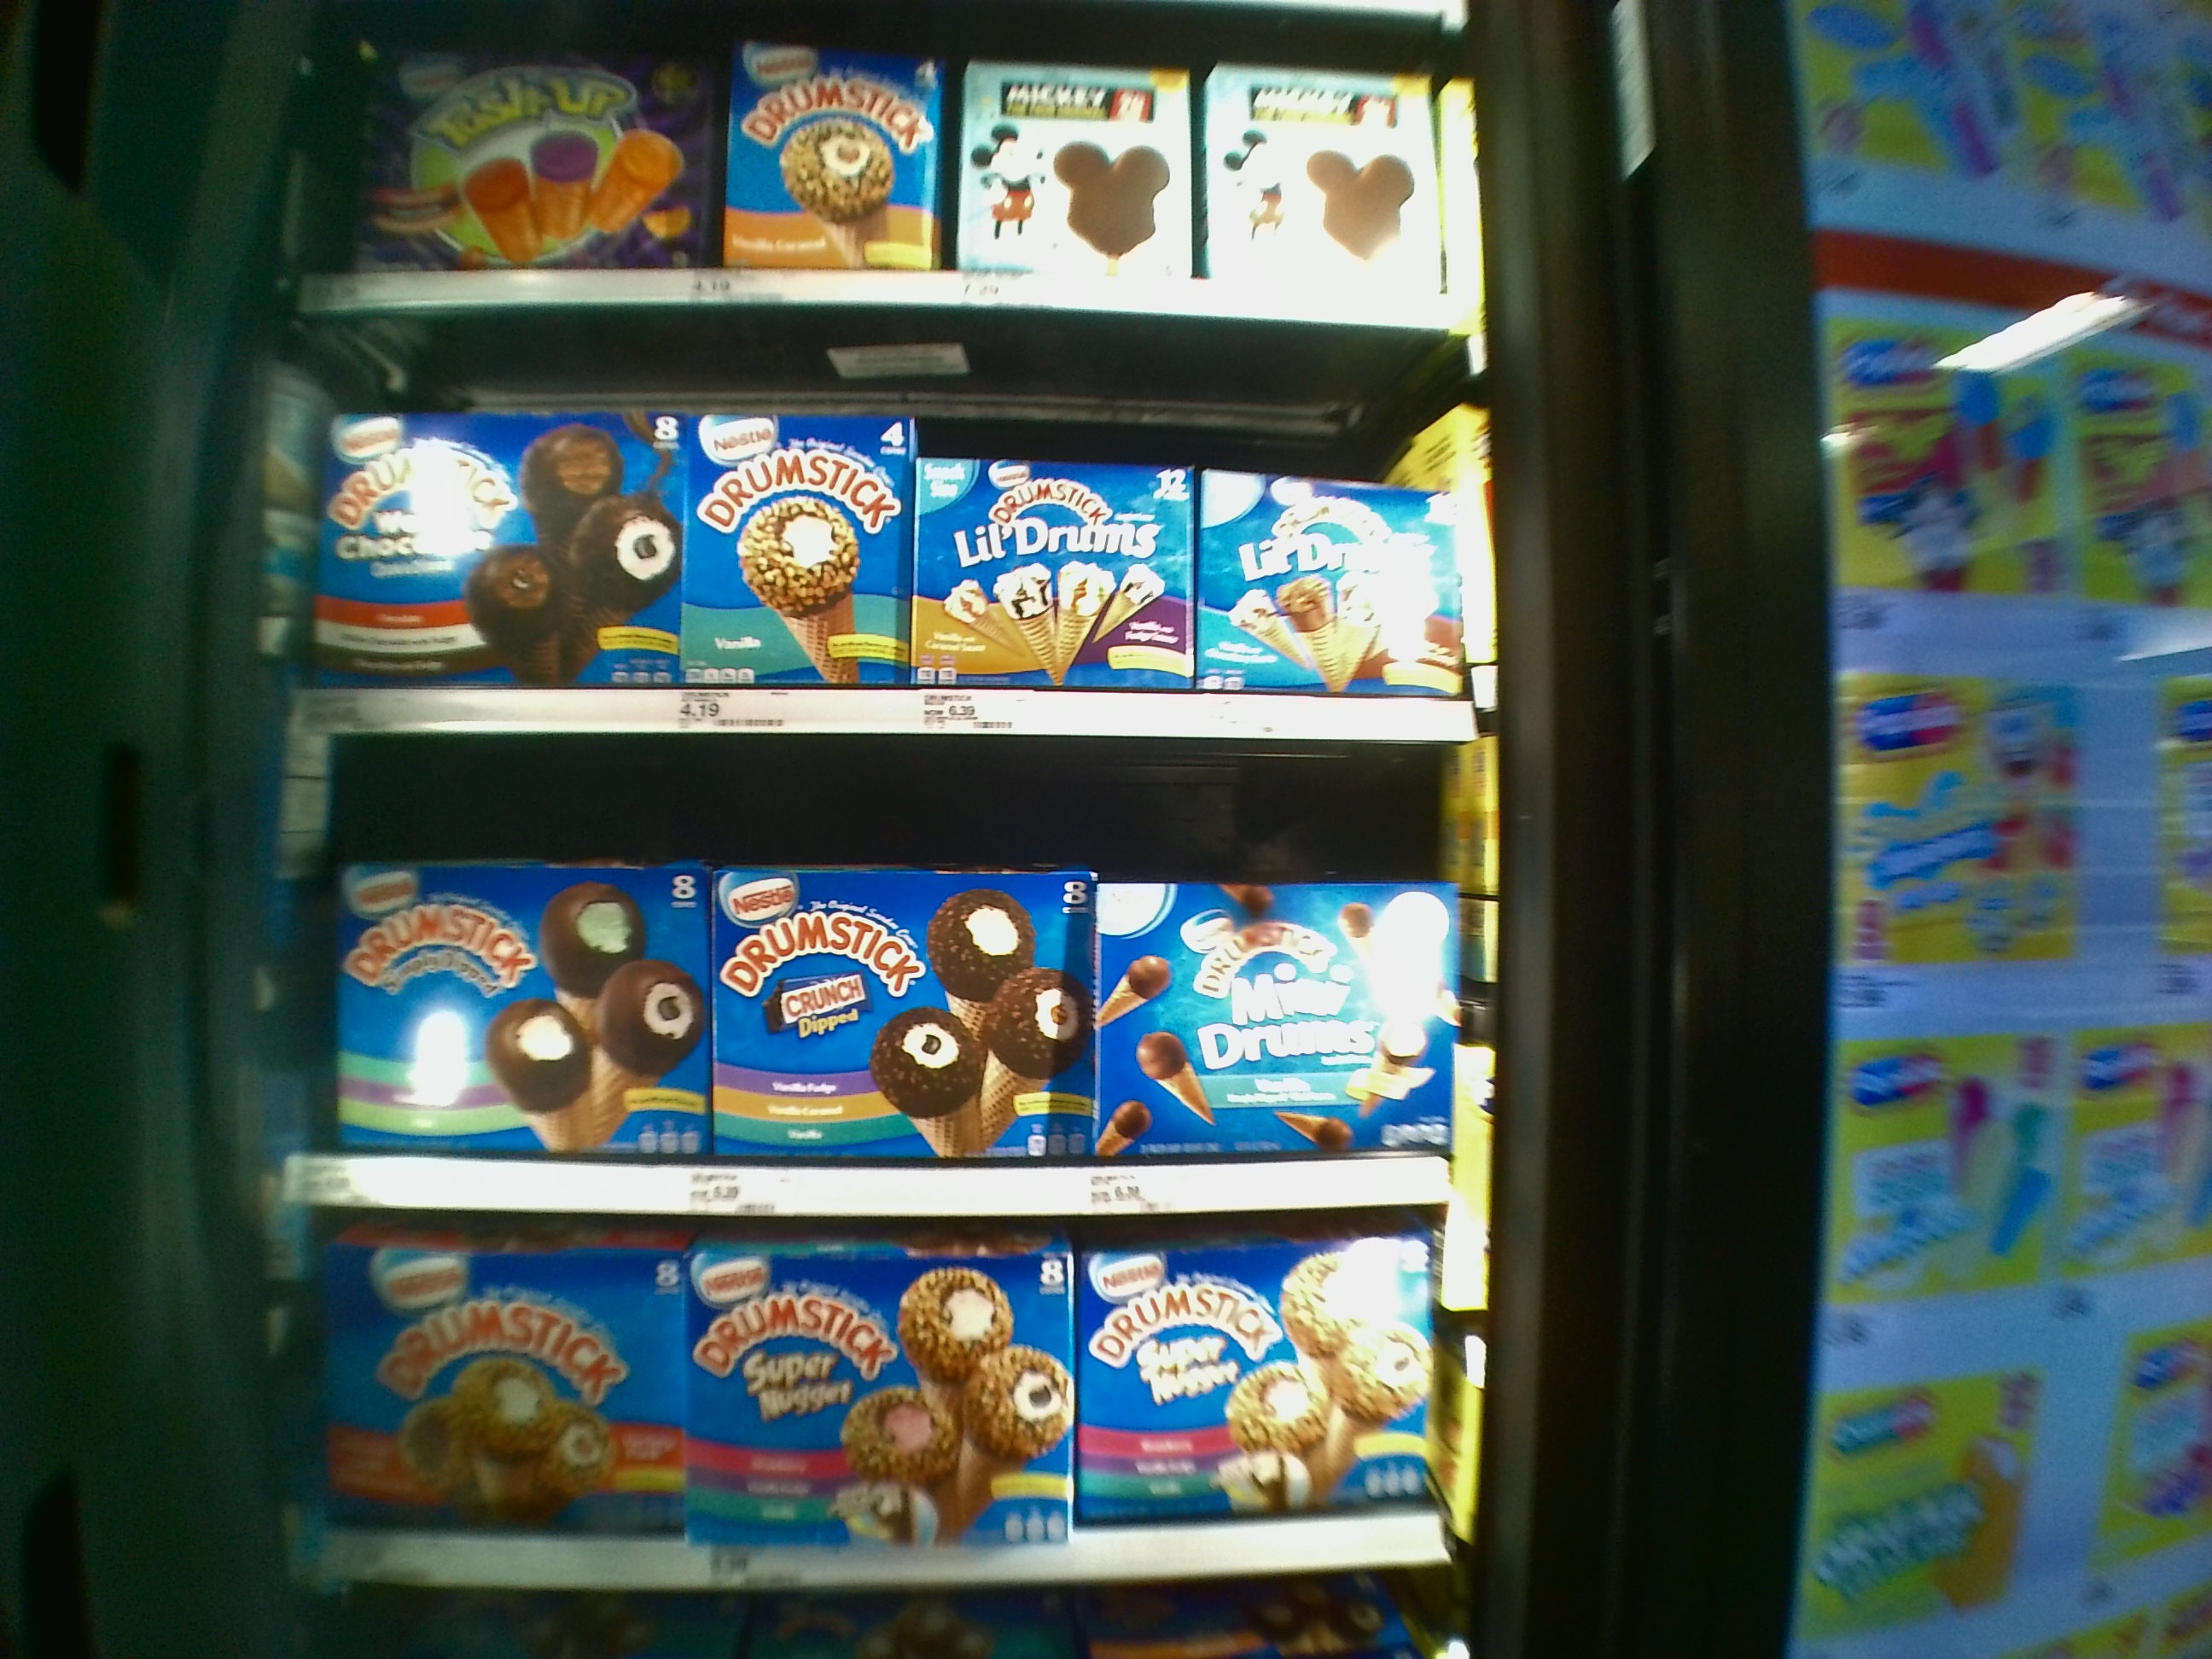shelf: (307, 746, 1467, 1225), (301, 357, 1484, 746), (310, 1227, 1461, 1581), (300, 7, 1465, 350)
